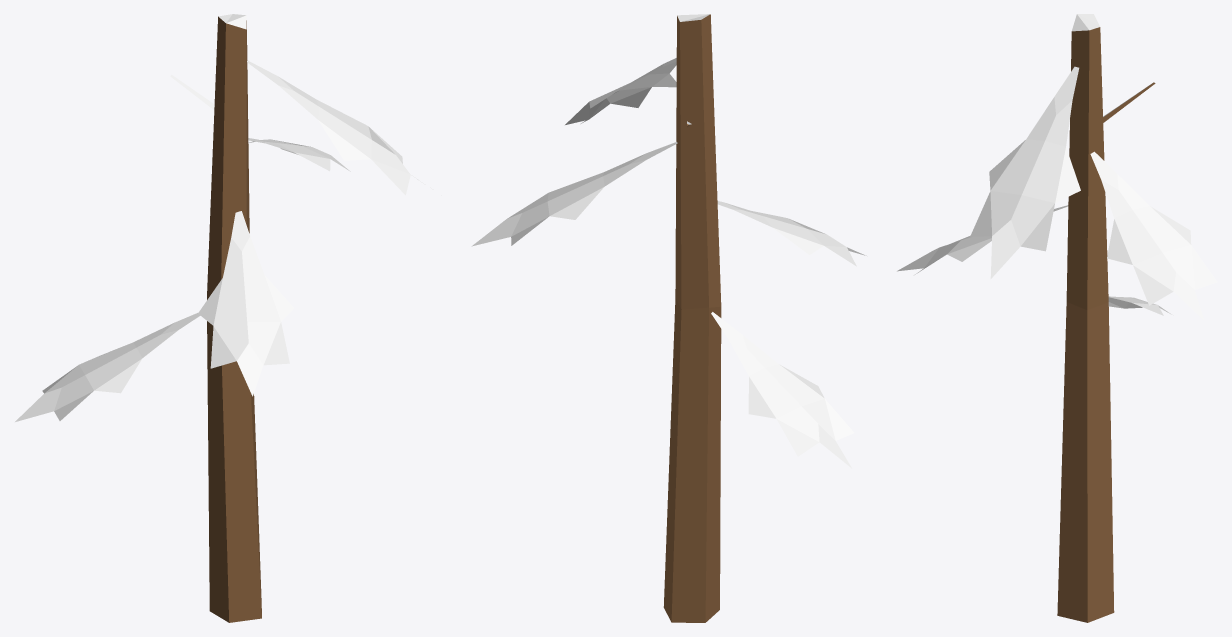
Rendered from Dead_Pine_Tree_crk_OneSided_l_Snow_04_LOD.fbx.
3 views of the same model, side by side, from view 1: azimuth 30°, elevation 25°; view 2: azimuth 150°, elevation 25°; view 3: azimuth 270°, elevation 25° (orthographic).
Visible parts, largest first — view 1: Dead_Pine_Tree_crk_OneSided_l_Snow_04_LOD0; view 2: Dead_Pine_Tree_crk_OneSided_l_Snow_04_LOD0; view 3: Dead_Pine_Tree_crk_OneSided_l_Snow_04_LOD0.
Boxes of the visible parts, left/top/right/bottom form: Dead_Pine_Tree_crk_OneSided_l_Snow_04_LOD0: left=15, top=14, right=417, bottom=622; Dead_Pine_Tree_crk_OneSided_l_Snow_04_LOD0: left=471, top=14, right=866, bottom=622; Dead_Pine_Tree_crk_OneSided_l_Snow_04_LOD0: left=897, top=14, right=1217, bottom=622.
Size of what is drawn, in the model's own units: 462 by 753 by 372.
